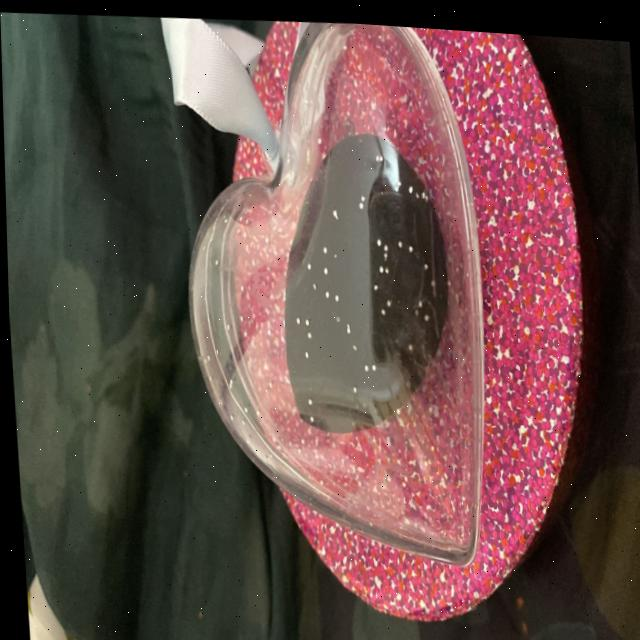beauty blender: (259, 102, 461, 456)
